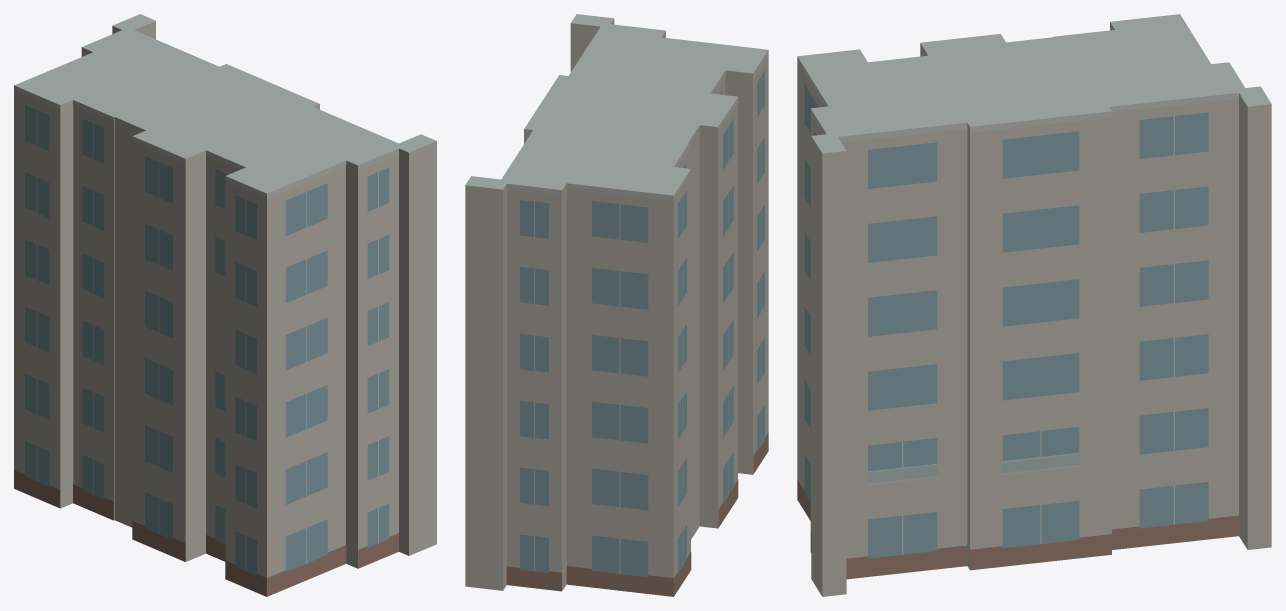
File: survey-upis-32652791.glb
3 renders of one model, left to right at view 1: azimuth 30°, elevation 25°; view 2: azimuth 150°, elevation 25°; view 3: azimuth 270°, elevation 25°, orthographic. The views are drawn at different scales.
Parts seen in each view (by area): view 1: survey-upis-32652791.tmp; view 2: survey-upis-32652791.tmp; view 3: survey-upis-32652791.tmp.
Boxes of the visible parts, left/top/right/bottom form: survey-upis-32652791.tmp: left=14, top=14, right=436, bottom=596; survey-upis-32652791.tmp: left=465, top=14, right=768, bottom=596; survey-upis-32652791.tmp: left=797, top=14, right=1271, bottom=596.
Bounding box in the file's own units: 12.36 × 18.3 × 17.75.
